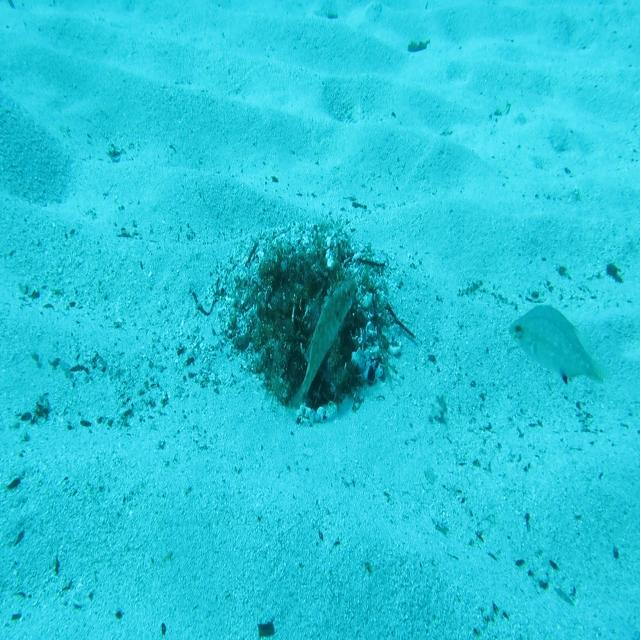LF: (287, 274, 357, 414)
core_nest: (278, 262, 331, 300)
female: (505, 300, 613, 392)
nest: (206, 210, 404, 440)
vegetation: (406, 36, 433, 56), (605, 261, 625, 287), (256, 619, 277, 639)
